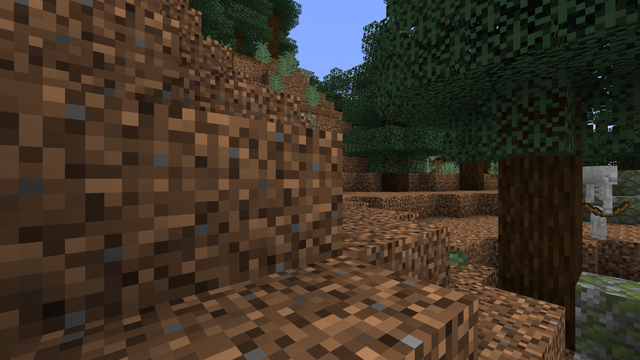squelettes: (582, 165, 614, 241)
